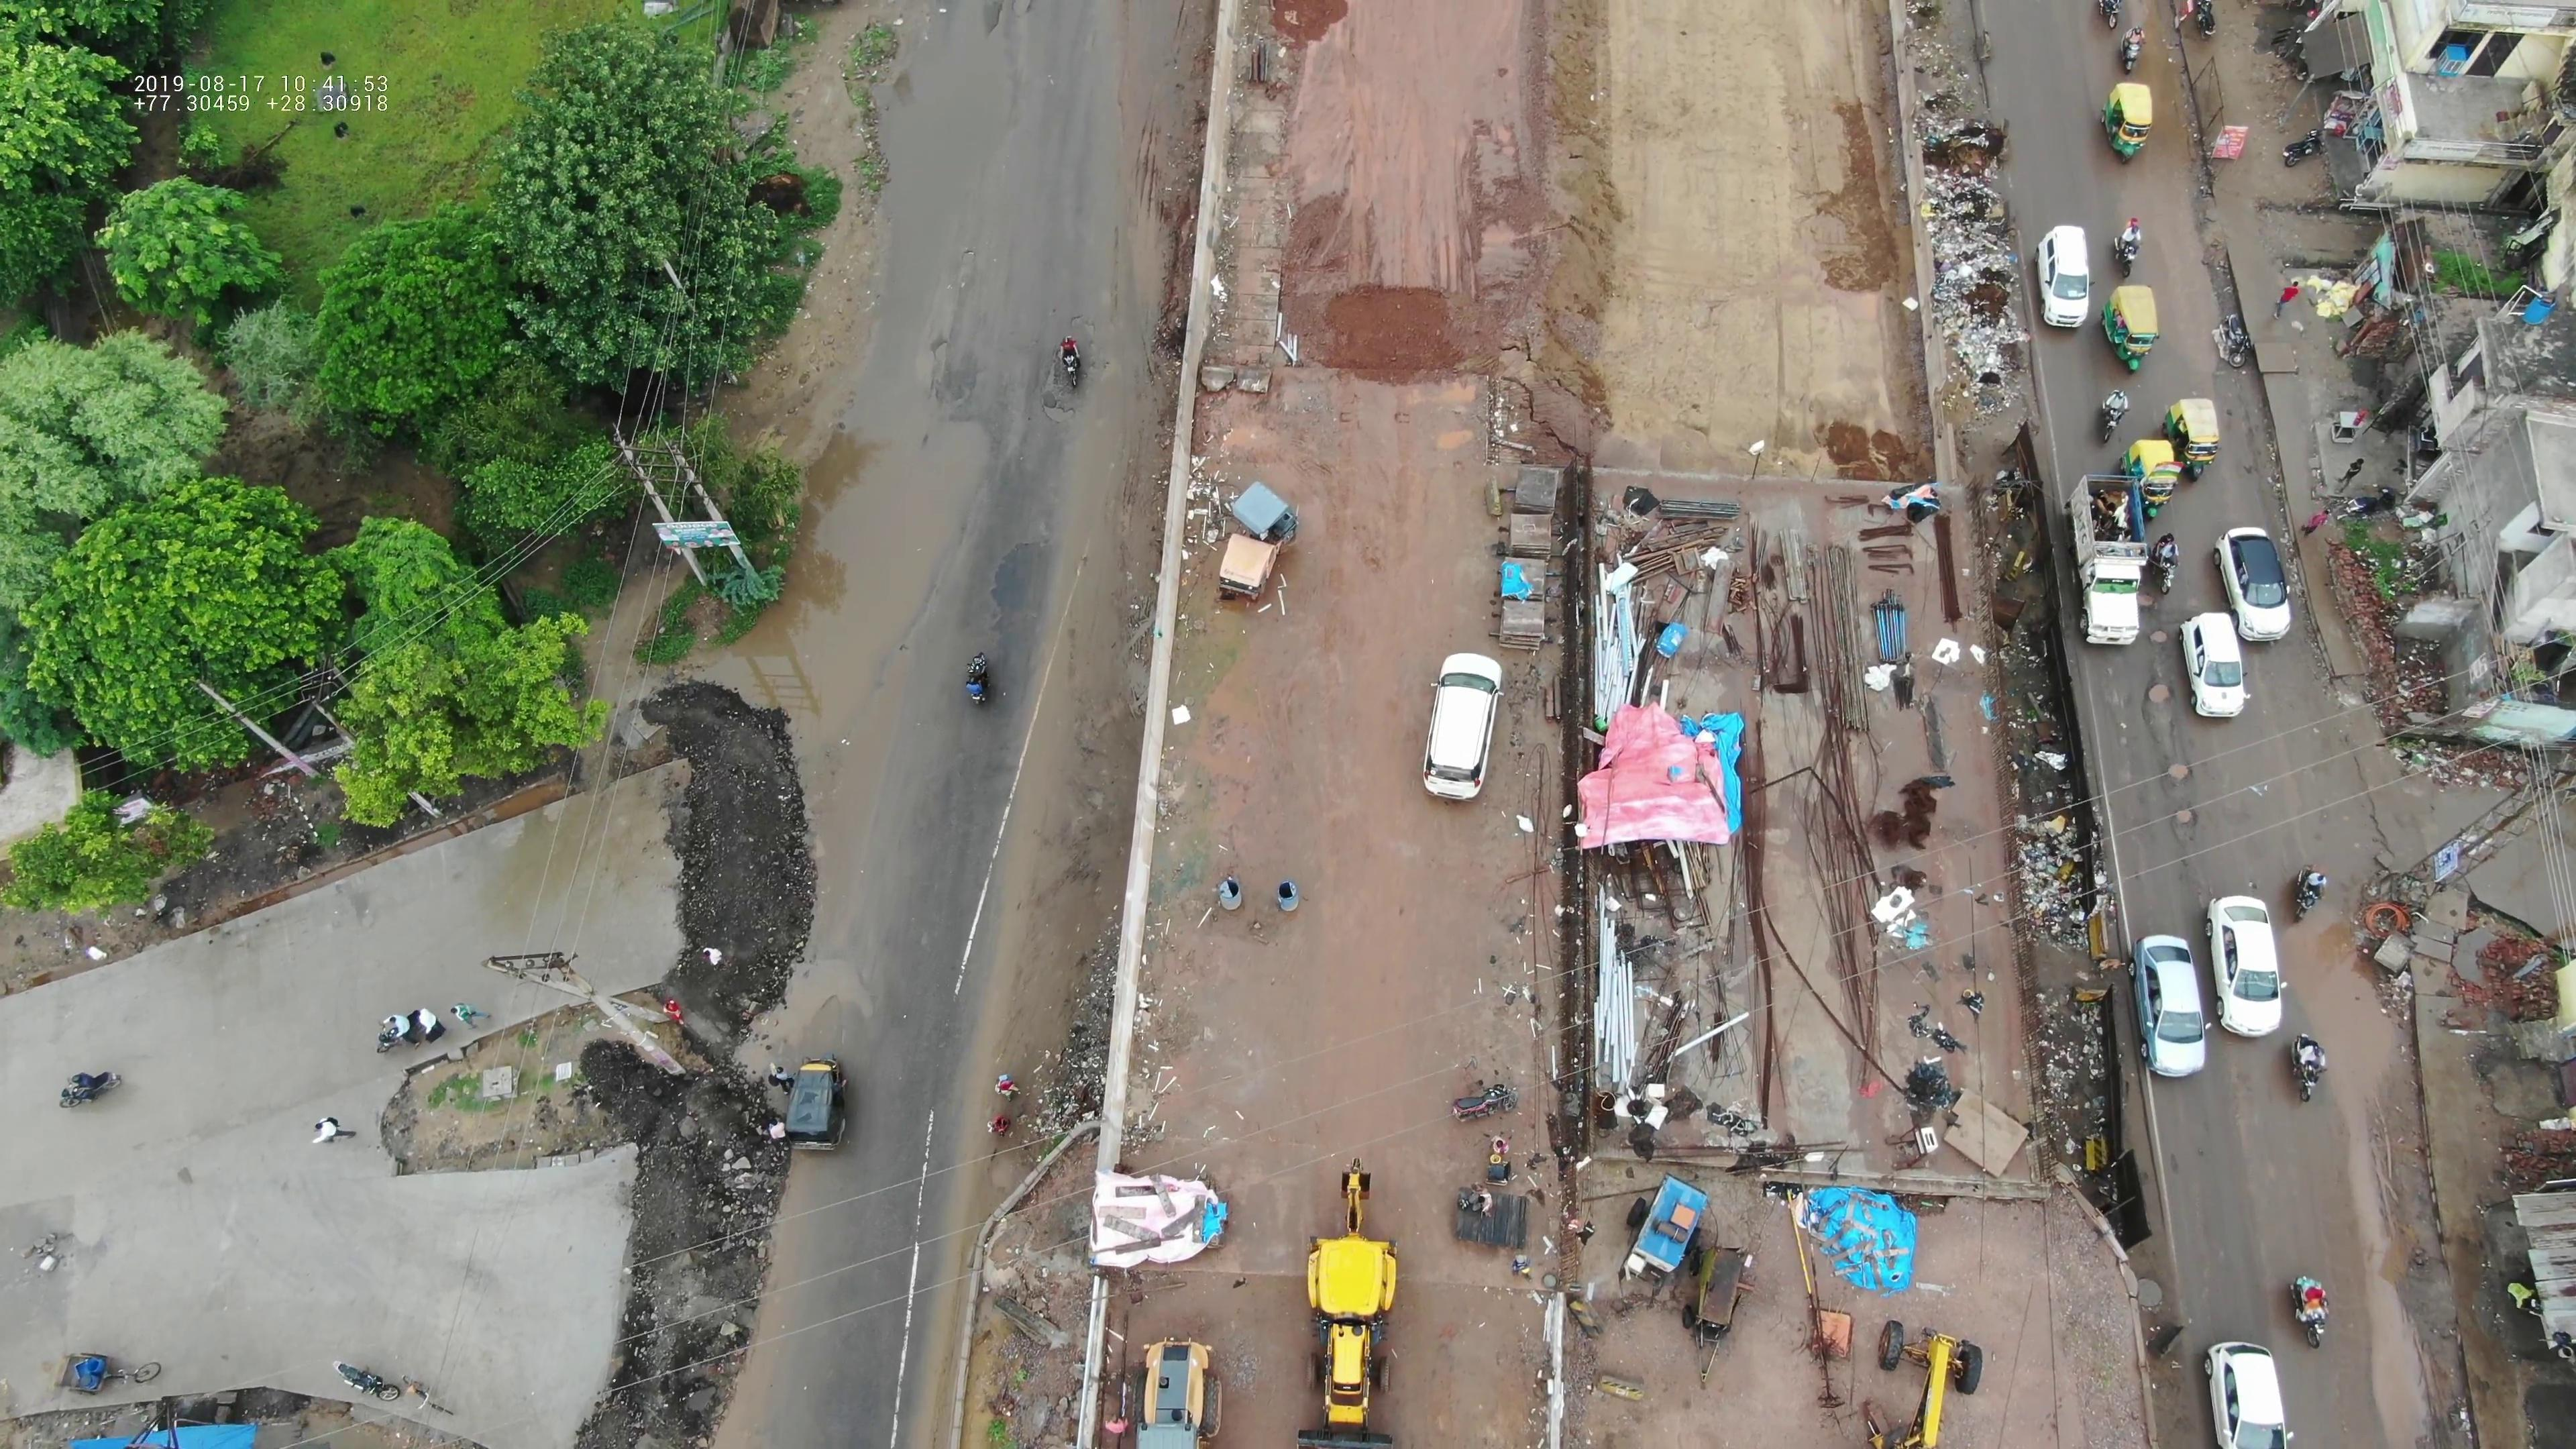Potholes: (2143, 614, 2201, 837)
Waterlogging: (724, 391, 980, 685)
